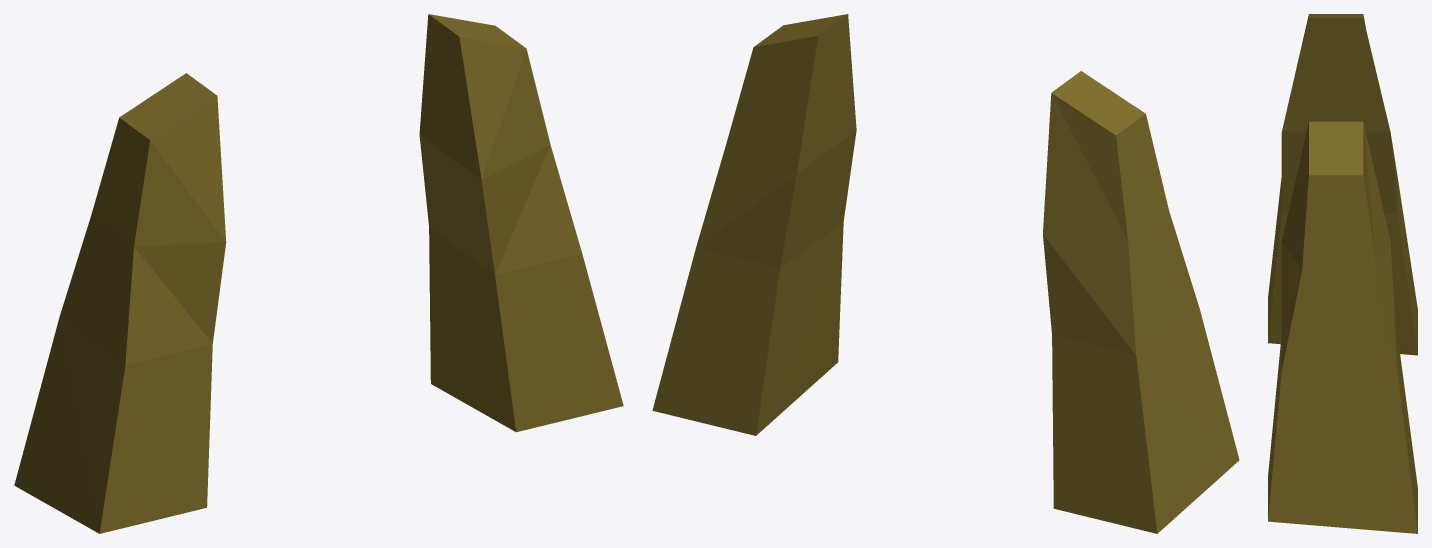
Rendered from model_170_idk.obj.
3 views of the same model, side by side, from view 1: azimuth 30°, elevation 25°; view 2: azimuth 150°, elevation 25°; view 3: azimuth 270°, elevation 25° (orthographic). The views are drawn at different scales.
Parts seen in each view (by area): view 1: 170; view 2: 170; view 3: 170.
Boxes of the visible parts, left/top/right/bottom form: 170: left=14, top=14, right=623, bottom=533; 170: left=652, top=14, right=1239, bottom=533; 170: left=1268, top=14, right=1417, bottom=533.
Size of the model in its own units: 78 by 57 by 22.
